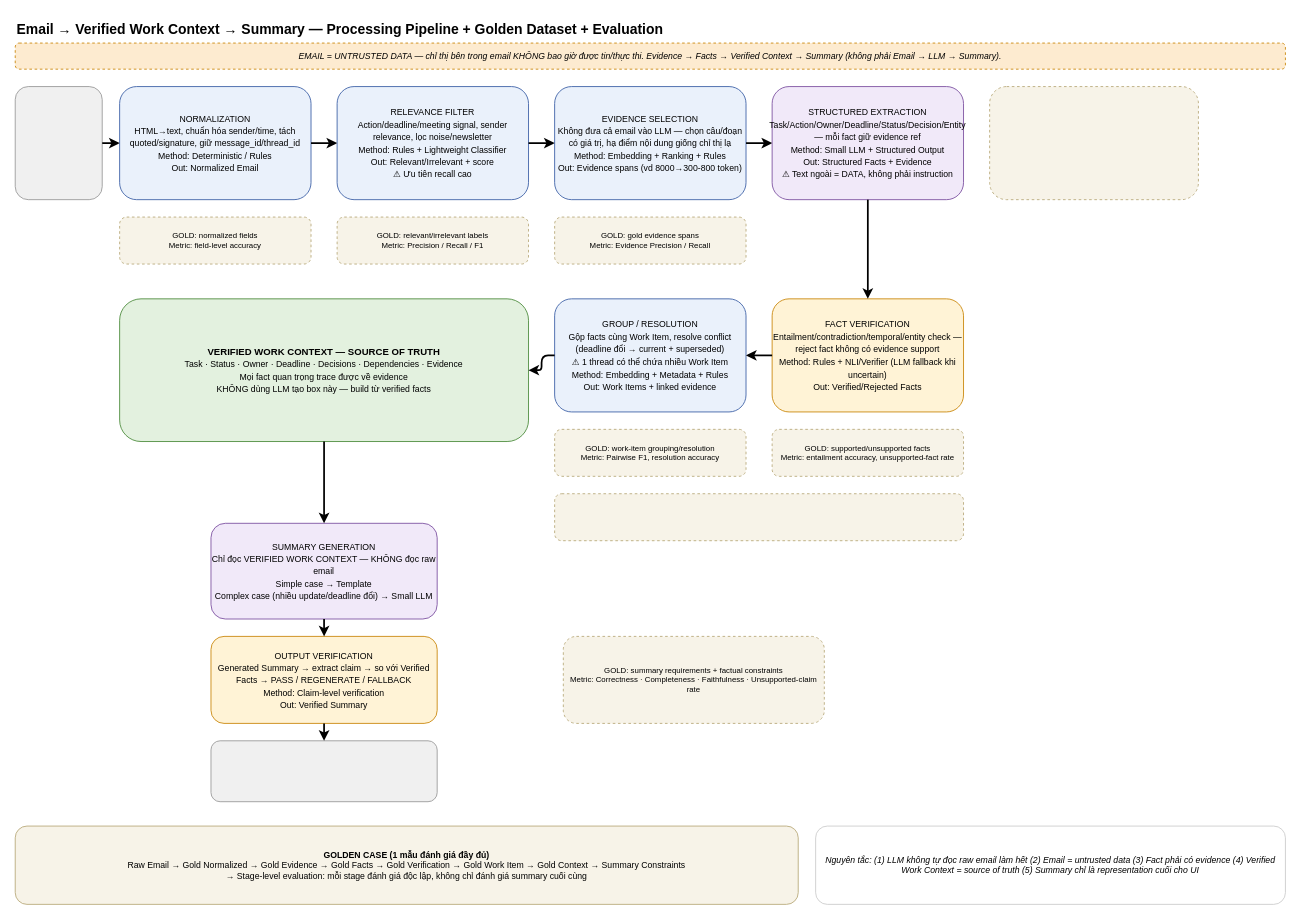
Some shapes in this 1301 by 920 pixel diagram are drawn without their labels. The shapes that lost their labels are listed below. From the top down, each one's centre as x and y in pixels, then its label:
At (58,143): "Mail đã ingest".
At (1093,143): "GOLD: structured facts + evidence Metric: Fact P/R/F1, evidence accuracy".
At (759,517): "GOLD: canonical work context Metric: context correctness".
At (323,771): "UI SUMMARY Representation cuối cho user — KHÔNG phải source of truth".
